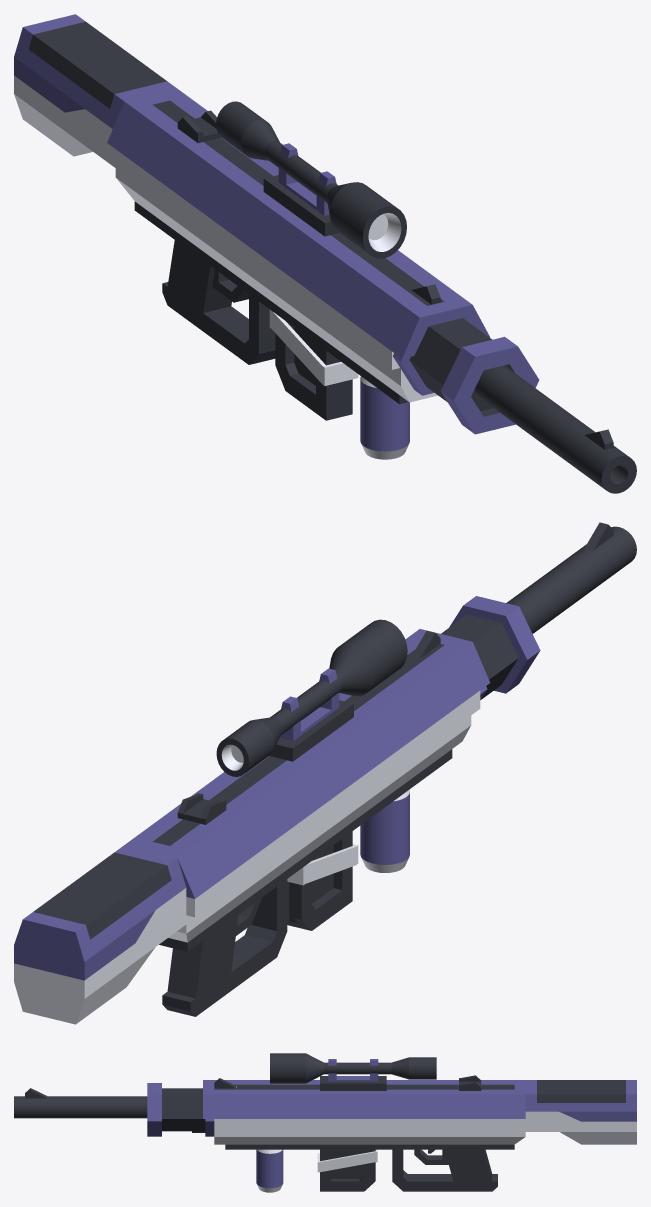
The picture shows the model from 3 angles, top to bottom: view 1: azimuth 30°, elevation 25°; view 2: azimuth 150°, elevation 25°; view 3: azimuth 270°, elevation 25°; orthographic projection. The views are drawn at different scales.
Parts seen in each view (by area): view 1: mergedBlocks; view 2: mergedBlocks; view 3: mergedBlocks.
Part boxes in pixels (x1,y1,x2,y2): mergedBlocks: [14, 14, 636, 493]; mergedBlocks: [14, 522, 636, 1024]; mergedBlocks: [14, 1053, 636, 1192].
Size of the model in its own units: 0.5 by 1.32 by 5.6.
